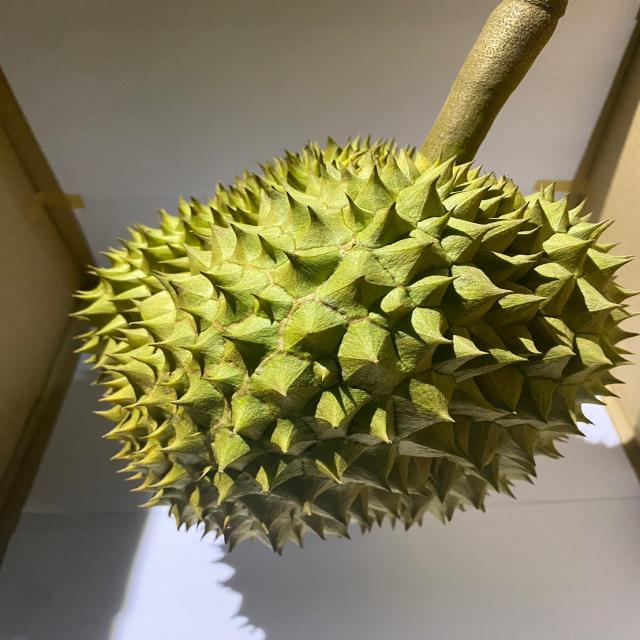immature: (67, 134, 640, 556)
